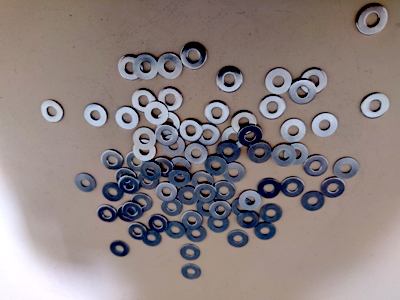circle: (357, 4, 389, 35), (180, 43, 208, 70), (361, 93, 390, 119), (300, 68, 327, 95), (266, 68, 292, 95), (216, 67, 243, 93), (289, 79, 316, 104), (118, 54, 143, 81), (260, 95, 286, 120), (158, 54, 183, 80), (312, 113, 338, 137), (134, 54, 158, 80), (281, 119, 306, 143), (232, 111, 257, 135), (205, 101, 230, 125), (158, 88, 183, 112), (145, 101, 169, 126), (132, 89, 156, 113), (272, 144, 297, 167), (303, 155, 329, 177), (222, 126, 246, 149), (115, 106, 139, 129), (238, 125, 263, 147), (156, 112, 181, 134), (41, 100, 64, 123), (84, 104, 107, 127), (198, 124, 221, 147), (180, 120, 203, 143), (334, 158, 358, 180), (248, 143, 273, 164), (205, 155, 228, 177), (156, 125, 179, 147), (133, 128, 156, 150), (133, 140, 156, 162), (284, 144, 308, 165), (301, 191, 325, 212), (258, 178, 281, 199), (223, 162, 246, 183), (217, 142, 240, 163), (185, 143, 208, 164), (162, 135, 185, 156), (321, 178, 345, 198), (192, 171, 214, 192), (170, 157, 192, 178), (140, 161, 162, 182), (281, 177, 304, 197), (101, 150, 124, 170), (239, 191, 262, 211), (260, 204, 282, 224), (153, 158, 175, 178), (156, 183, 179, 202), (178, 186, 199, 206), (127, 151, 147, 172), (254, 222, 276, 241), (210, 201, 232, 220), (232, 198, 254, 217), (75, 174, 97, 193), (195, 184, 217, 203), (197, 198, 217, 218), (103, 183, 124, 202), (182, 211, 203, 230), (208, 214, 229, 233), (132, 193, 153, 212), (214, 182, 235, 201), (138, 171, 159, 190), (119, 176, 140, 195), (116, 169, 137, 188), (168, 170, 191, 187), (128, 222, 148, 241), (162, 198, 182, 217), (238, 211, 259, 229), (97, 205, 118, 223), (141, 229, 162, 247), (228, 231, 249, 248), (165, 222, 185, 239), (186, 226, 207, 242), (181, 245, 201, 261), (110, 241, 130, 257), (182, 265, 202, 280)
